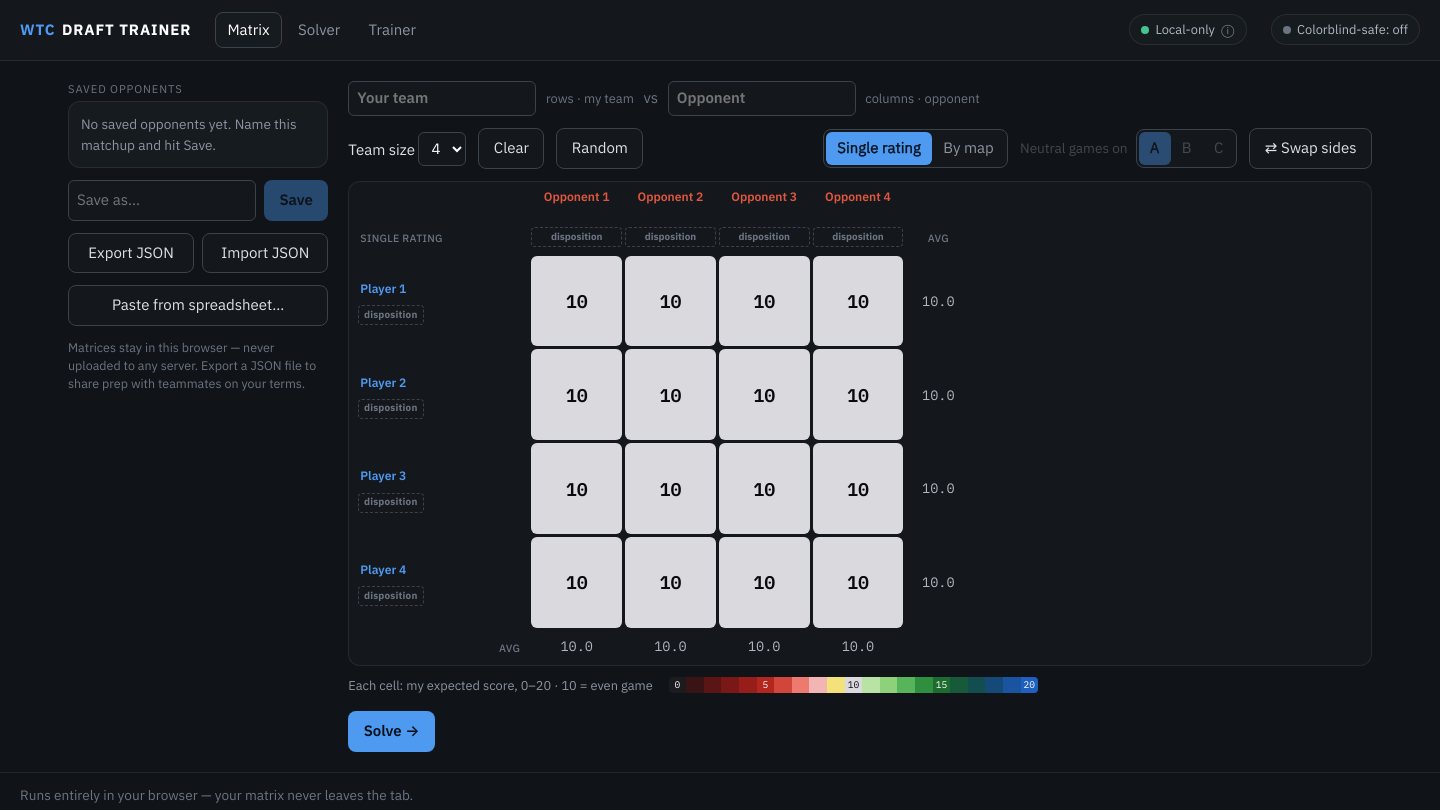
Test: App › a mode the matrix cannot solve in is disabled on the Solver screen
Click the button "Solver": (319, 30) left=286, top=12, right=352, bottom=48
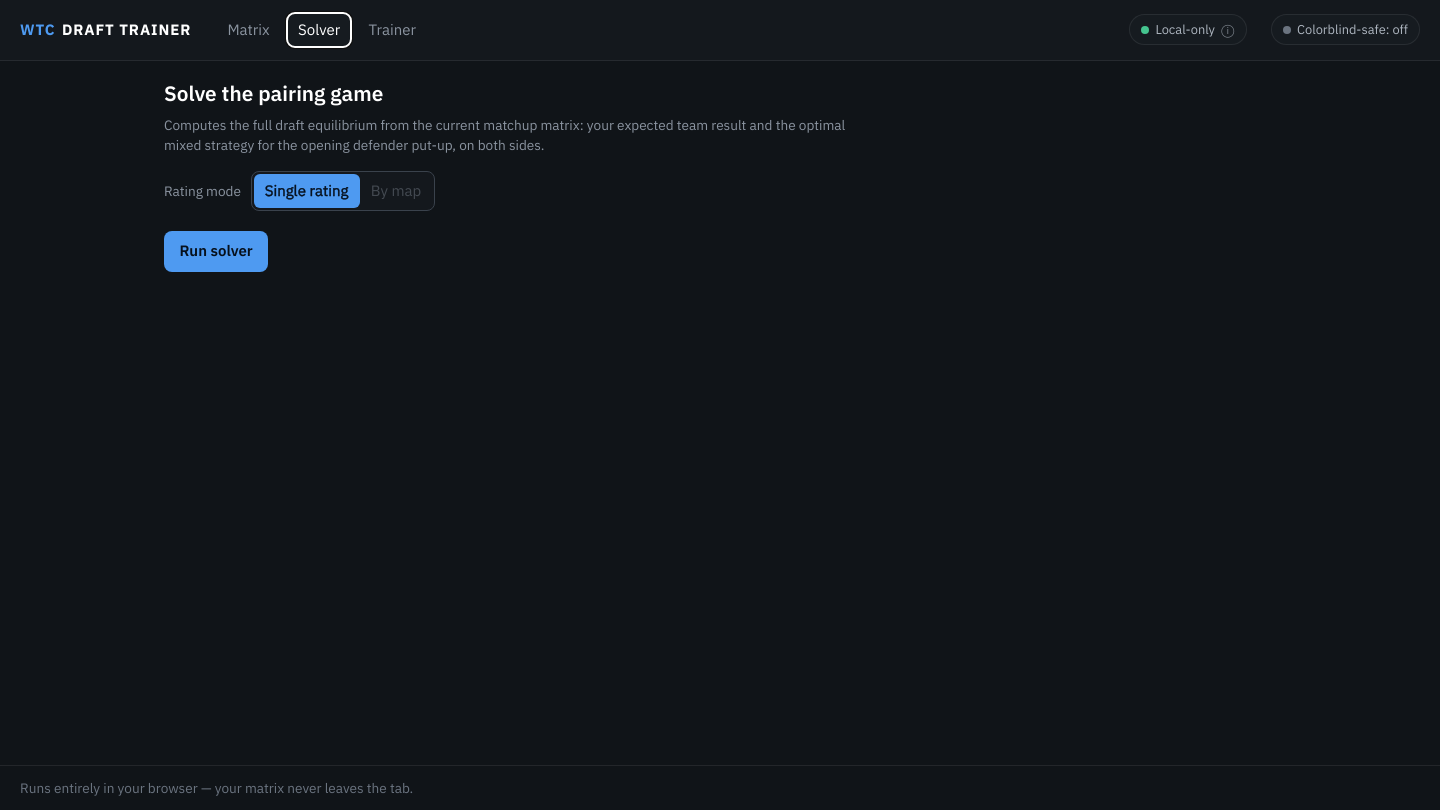
Expected: the button "Single rating" is enabled, left=254, top=174, right=360, bottom=208
Expected: the button "By map" is disabled, left=360, top=174, right=432, bottom=208
